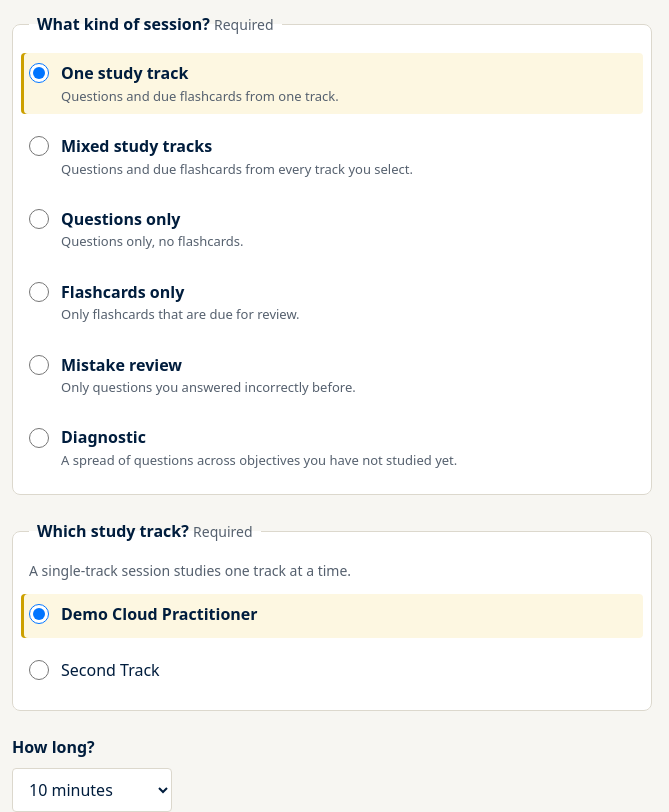
it: StartSessionForm › track selection › takes several tracks once a mixed session is chosen
This screenshot has width=669, height=812.
Click the radio button labelled "Mixed study tracks": x=39, y=146 left=29, top=136, right=49, bottom=156
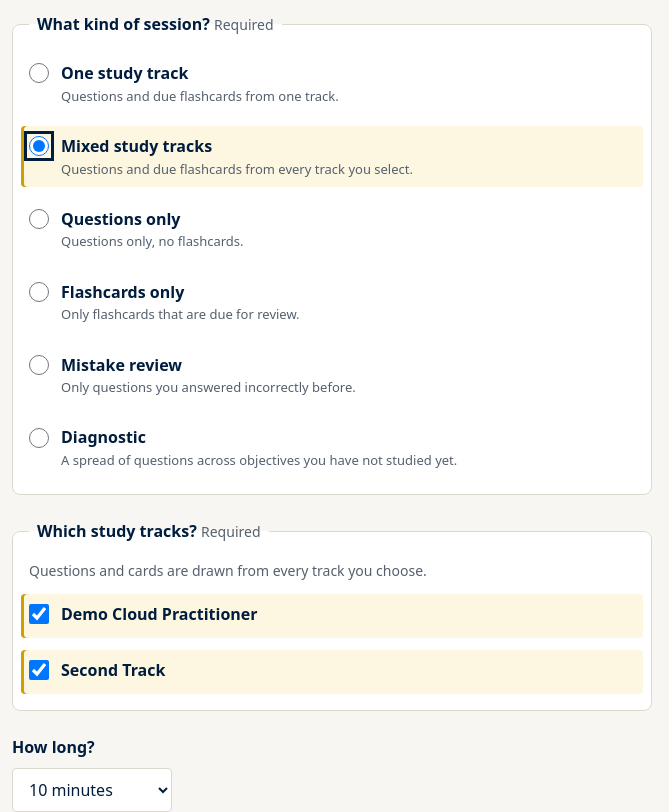
Expected: the text "Which study tracks?" is shown, left=37, top=520, right=197, bottom=542
Now the checkbox labelled "Second Track" is checked, box left=29, top=660, right=49, bottom=680
